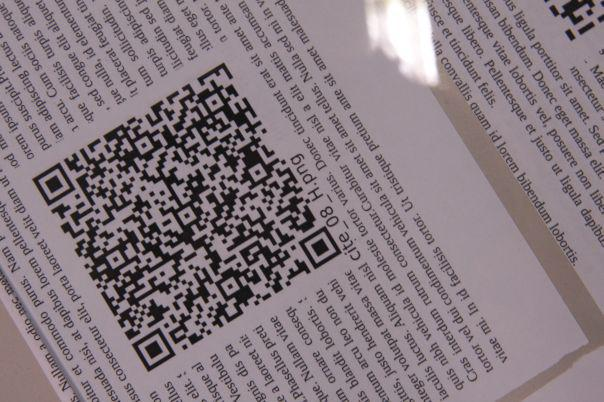Finder pattern: (297, 221, 343, 269), (32, 161, 77, 205), (131, 326, 175, 371)
